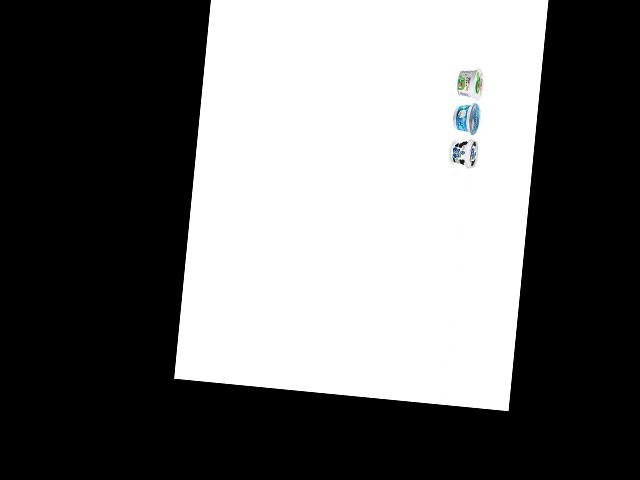cotage: (453, 64, 486, 102)
